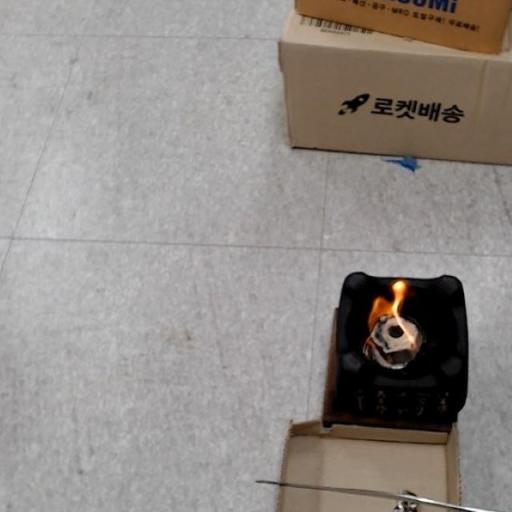smoke: (366, 278, 421, 359)
